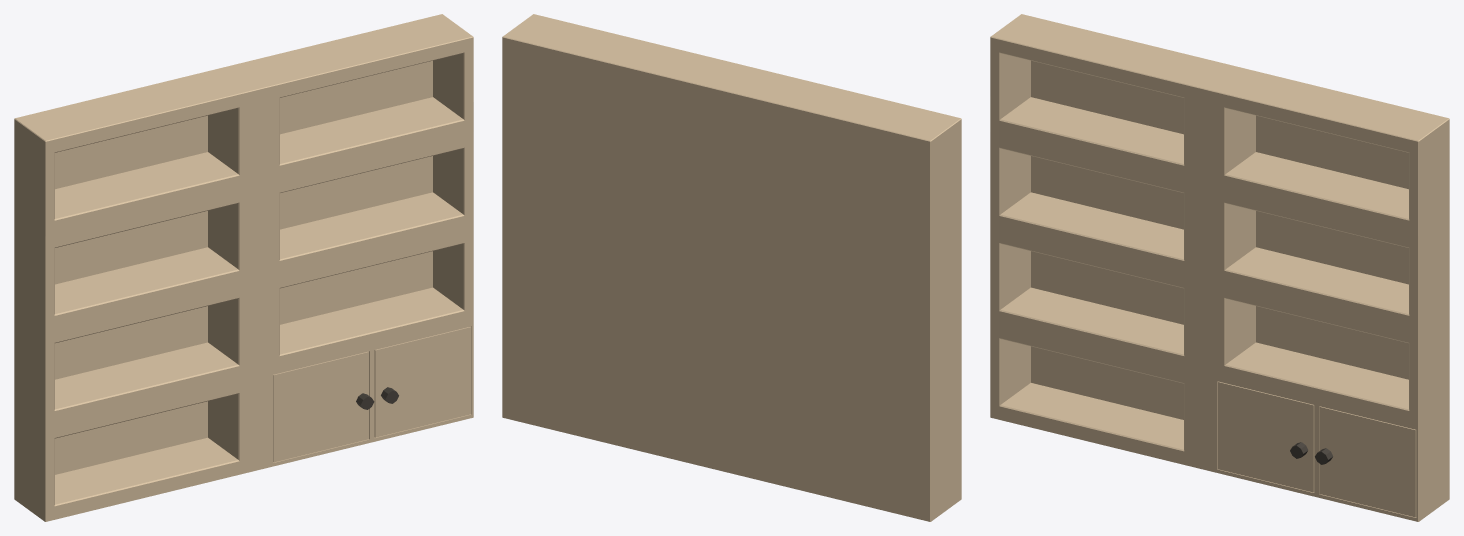
The model's file is bookshelf.glb.
The picture shows the model from 3 angles, left to right: view 1: azimuth 30°, elevation 25°; view 2: azimuth 150°, elevation 25°; view 3: azimuth 330°, elevation 25°; orthographic projection.
Parts seen in each view (by area): view 1: bookshelf; view 2: bookshelf; view 3: bookshelf.
Boxes of the visible parts, x1,y1,x2,y2 form: bookshelf: (14,14,473,521); bookshelf: (502,14,961,521); bookshelf: (990,14,1449,521).
Bounding box in the file's own units: 2.36 × 2 × 0.3728.
